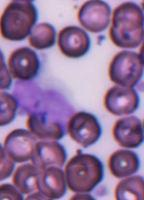M: (13, 76, 78, 132)
